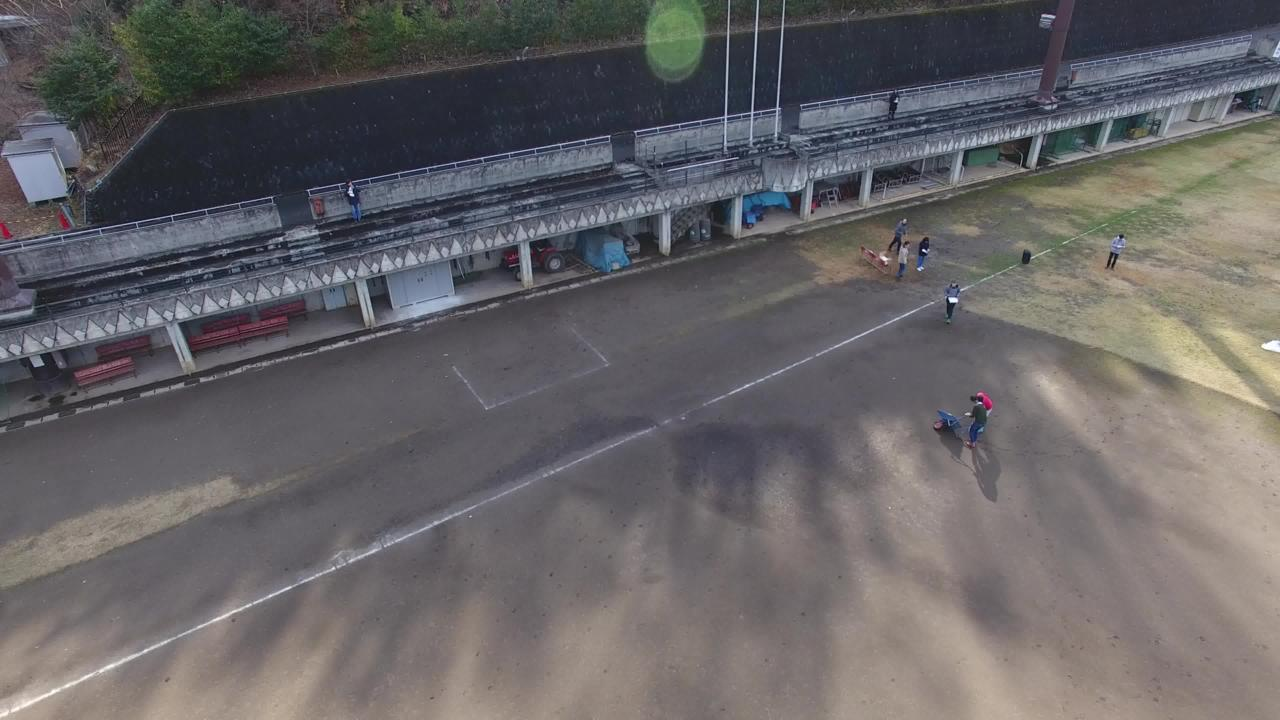person: (876, 78, 909, 134), (331, 176, 367, 221), (1103, 222, 1139, 267), (935, 276, 971, 321), (962, 393, 998, 438), (907, 229, 943, 274), (881, 245, 917, 290), (876, 205, 912, 250), (1244, 72, 1279, 117)
